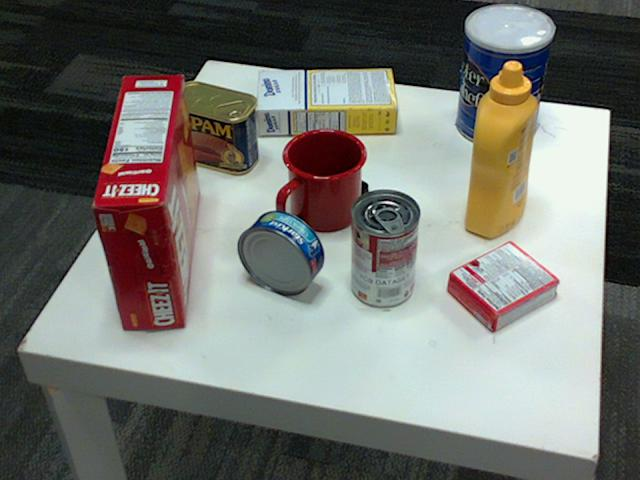cracker_box: (91, 72, 201, 327)
gelatin_box: (446, 241, 559, 332)
large_marker: (291, 142, 366, 195)
master_chef_can: (454, 5, 552, 147)
mug: (279, 126, 368, 229)
mustard_bottle: (463, 62, 537, 237)
potted_meat_can: (167, 82, 259, 174)
sugar_box: (256, 68, 397, 133)
tomato_soup_can: (350, 189, 420, 307)
tuna_fish_can: (238, 210, 325, 295)
